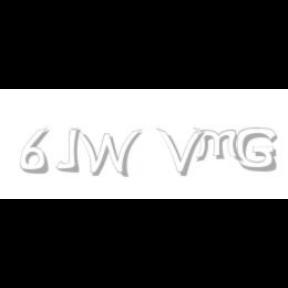6: (20, 128, 48, 176)
G: (237, 128, 277, 172)
J: (55, 128, 80, 172)
V: (157, 128, 205, 176)
W: (70, 128, 142, 178)
m: (192, 128, 244, 162)
